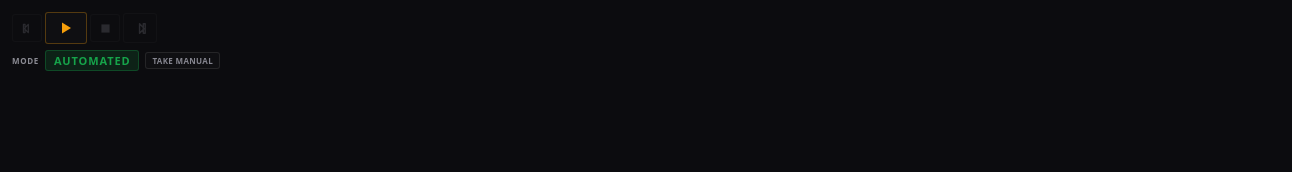
Test: PlayoutTransport › shows cache warning for both engines when both are fetching
Click the button with class "t-main" at {"x": 66, "y": 28}, box [45,12,87,44]
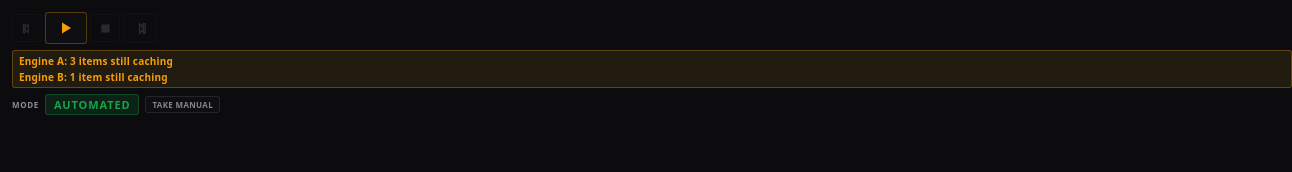
Expected: the element with class "cache-warning" is shown, [12,50,1291,88]
Expected: the element with class "cache-warning" shows "Engine A", [19,54,173,68]
Expected: the element with class "cache-warning" shows "Engine B", [19,70,168,84]
